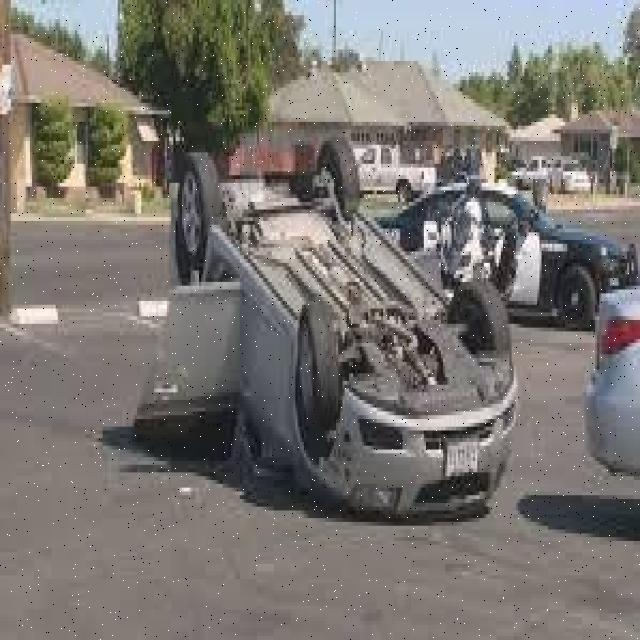severe: (135, 135, 524, 516)
